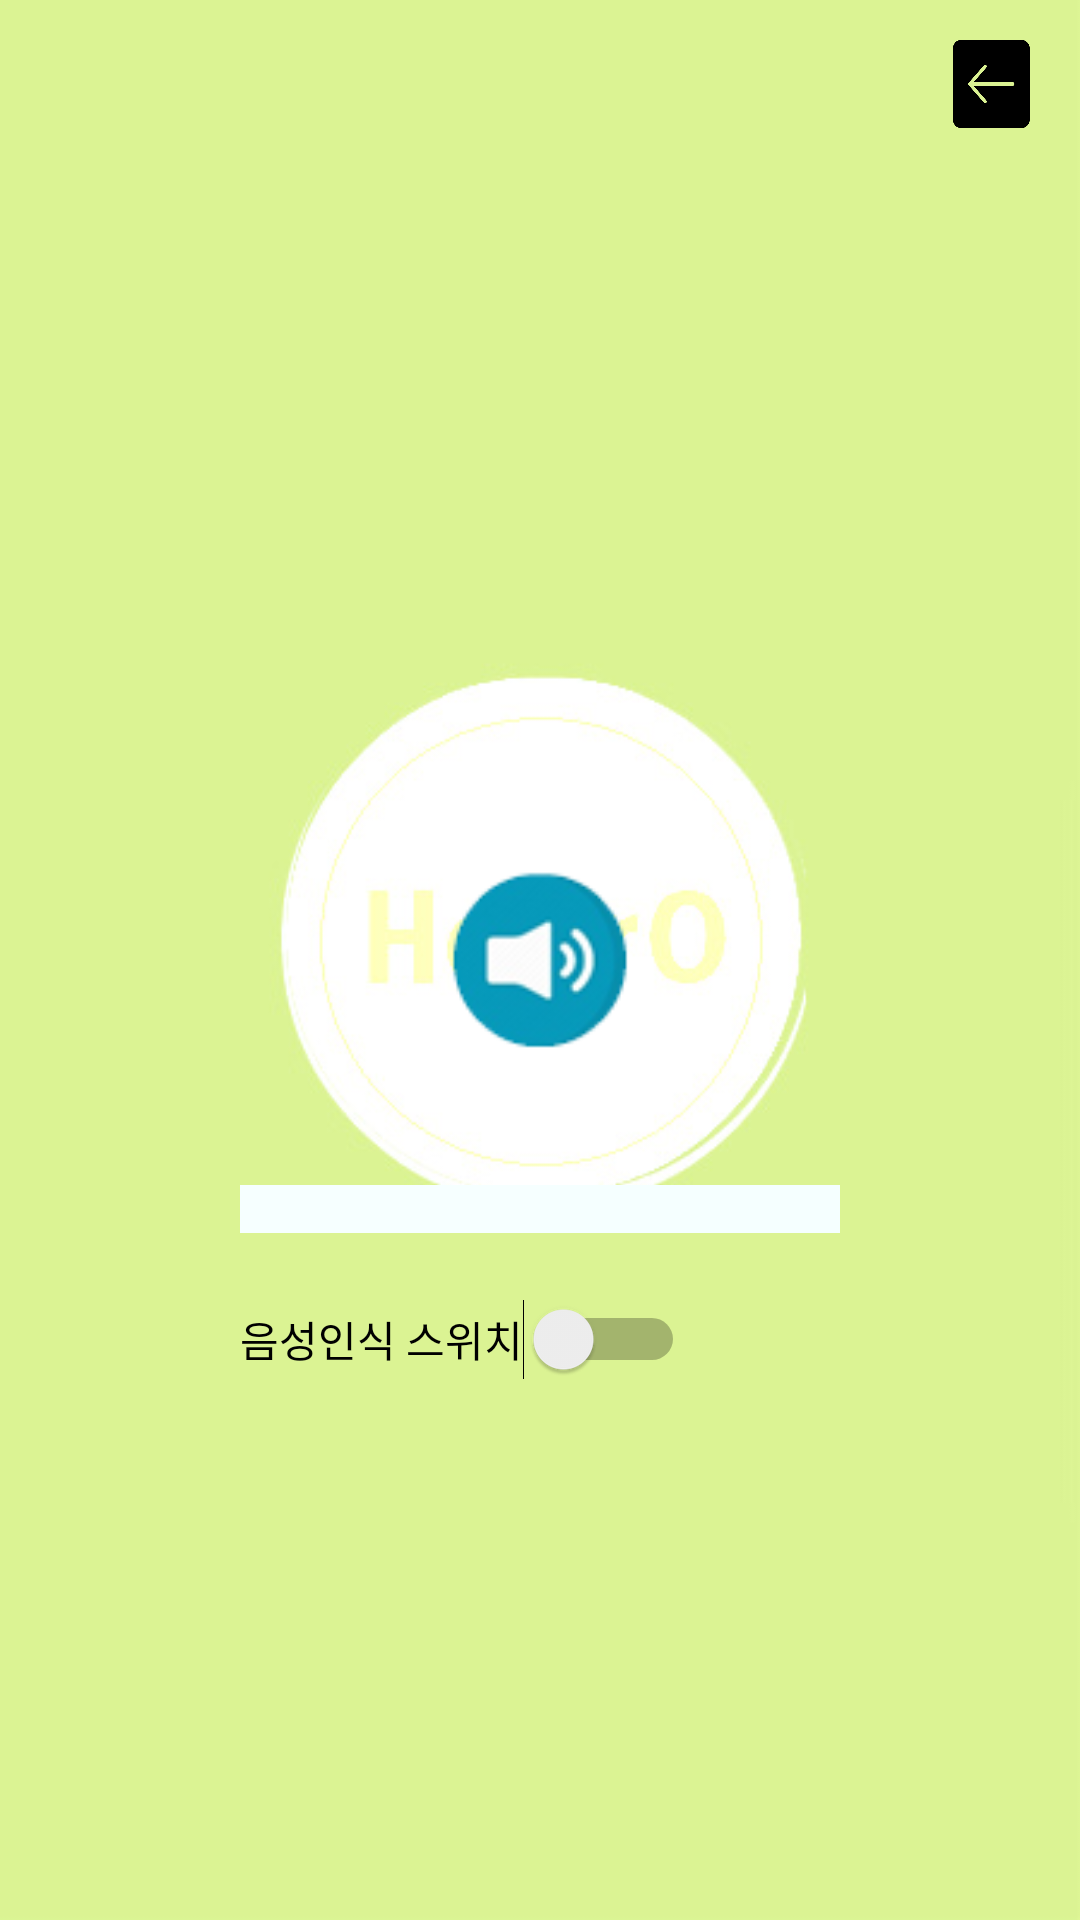

Named icons in this screenshot (1080×1920) and their bounding boxes, (x1, y1, x2, y2):
backimgj: (953, 40, 1030, 128)
